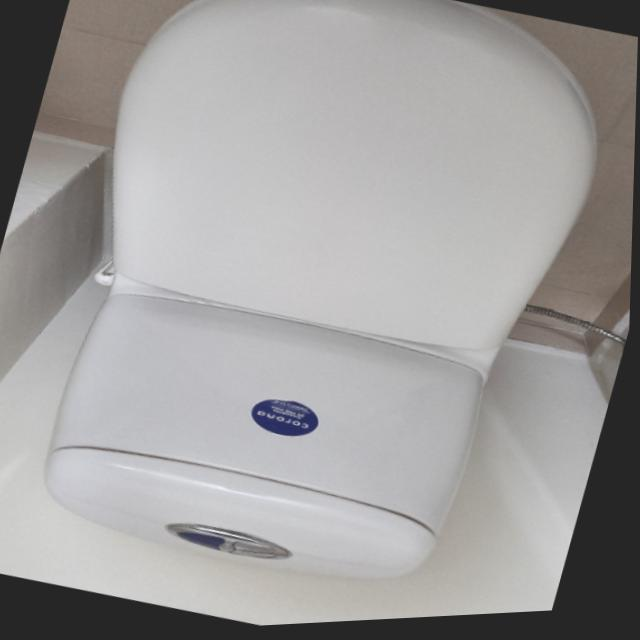toilet: (4, 0, 634, 634)
